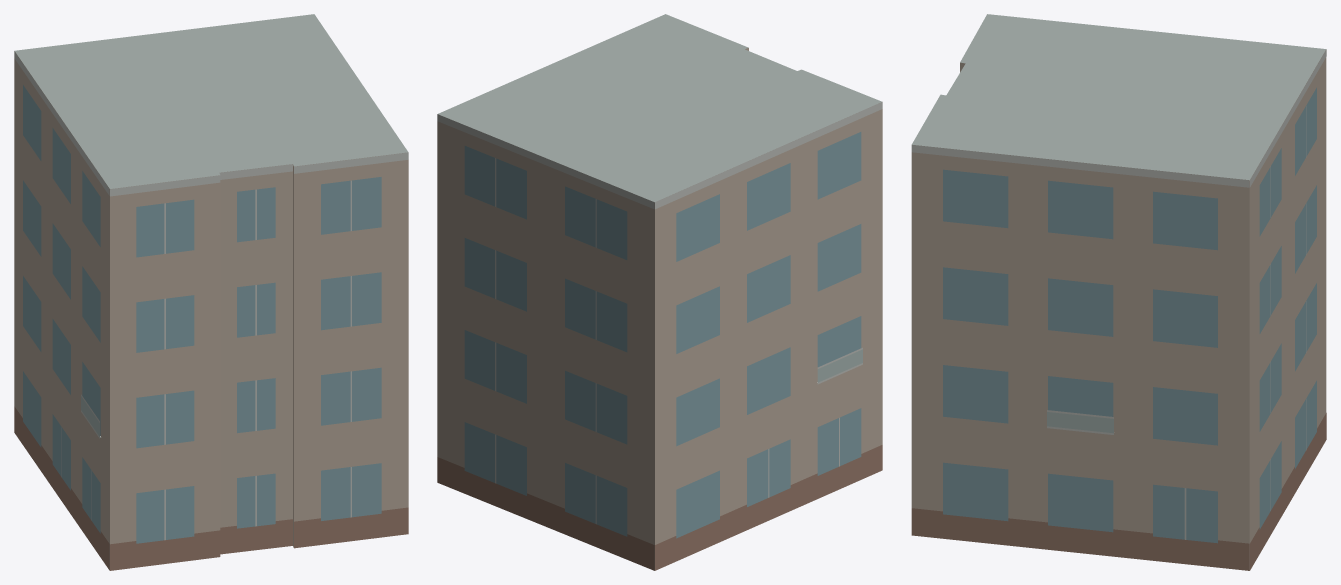
Rendered from survey-upis-32810966.glb.
The picture shows the model from 3 angles, left to right: view 1: azimuth 30°, elevation 25°; view 2: azimuth 150°, elevation 25°; view 3: azimuth 270°, elevation 25°; orthographic projection. The views are drawn at different scales.
Parts seen in each view (by area): view 1: survey-upis-32810966.tmp; view 2: survey-upis-32810966.tmp; view 3: survey-upis-32810966.tmp.
Boxes of the visible parts, left/top/right/bottom form: survey-upis-32810966.tmp: left=14, top=14, right=408, bottom=570; survey-upis-32810966.tmp: left=437, top=14, right=882, bottom=570; survey-upis-32810966.tmp: left=911, top=14, right=1326, bottom=570.
Bounding box in the file's own units: 11.47 × 12.56 × 12.1.
